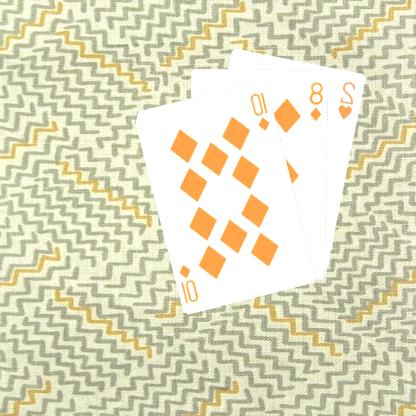10D: (178, 261, 202, 305), (249, 89, 273, 132)
2H: (337, 78, 359, 121)
8D: (309, 79, 326, 122)
